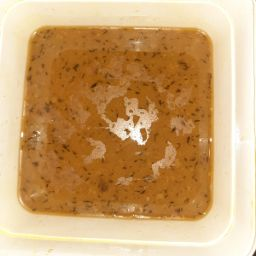Chicken Broth: (138, 19, 213, 221), (29, 25, 97, 220), (88, 22, 145, 227)
